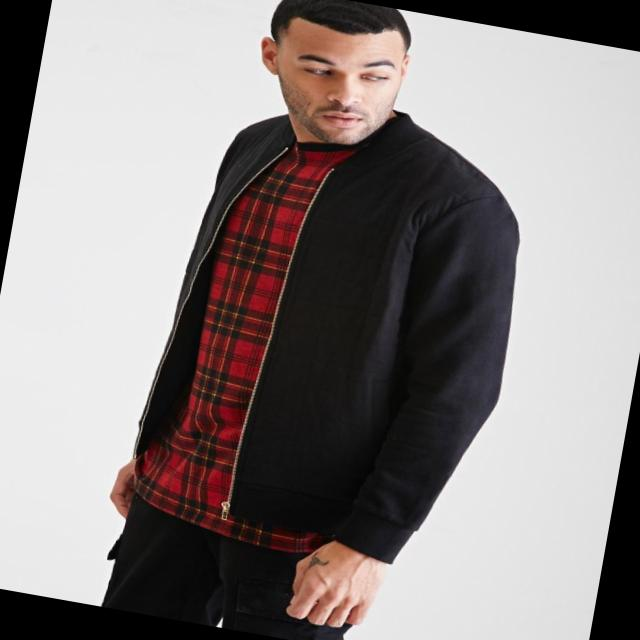Jacket: (113, 93, 547, 578)
